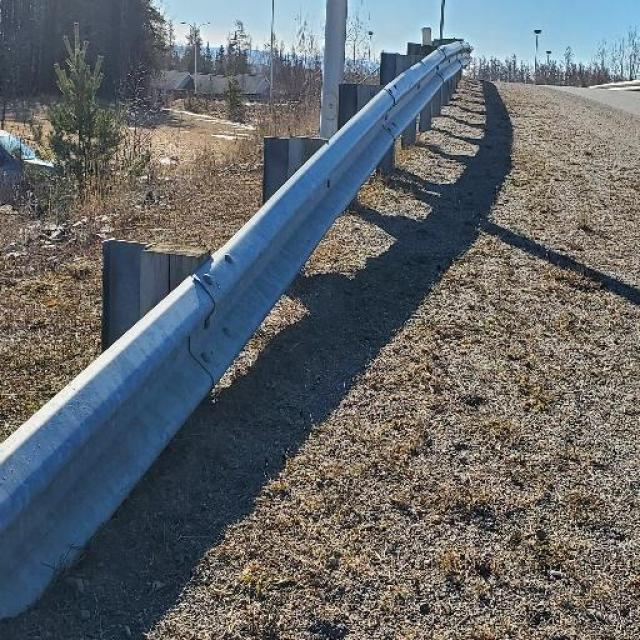Guard rail: (3, 28, 480, 640)
